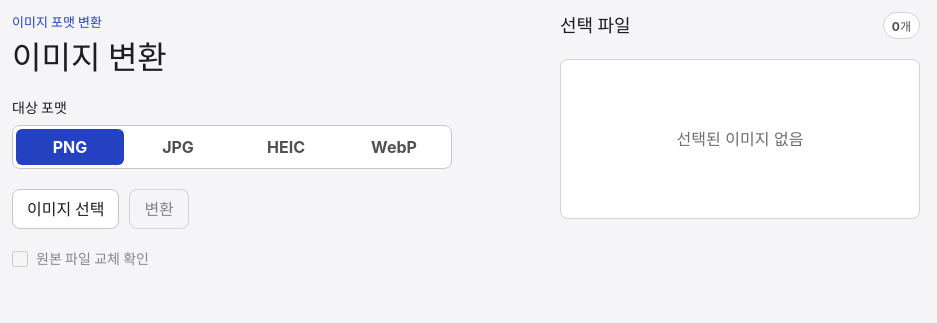
Test: ImageFormatConverterTool › requires replacement confirmation before converting selected images
Click the button "이미지 선택".
click(66, 209)  # box 12,189 -> 119,229
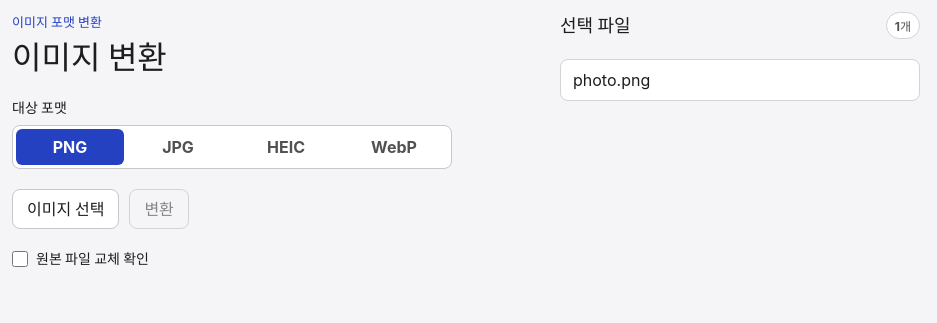
Expected: the button "변환" is disabled, 129,189 -> 189,229
Now the list item "photo.png" is shown, box 560,59 -> 920,101
Click the button "JPG".
click(178, 147)  # box 124,129 -> 232,165
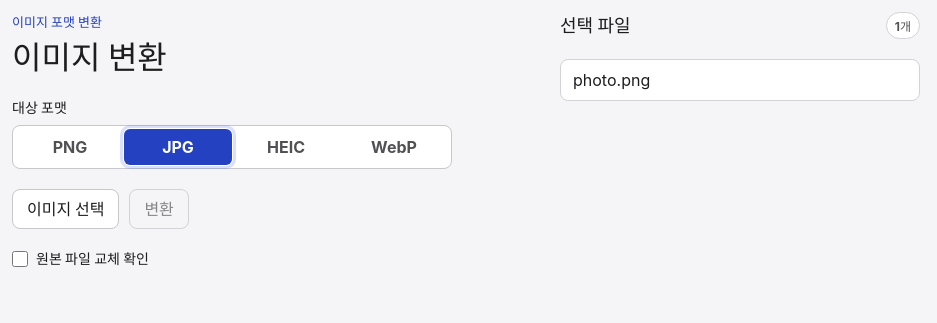
Click the checkbox labelled "원본 파일 교체 확인".
click(20, 259)  # box 12,251 -> 28,267
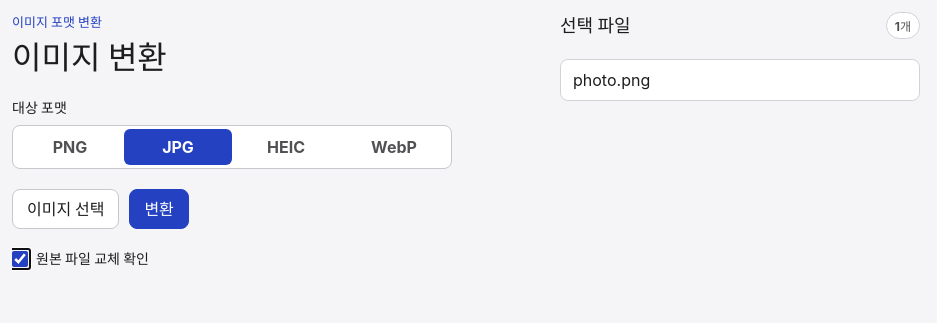
Click the button "변환".
click(159, 209)  # box 129,189 -> 189,229
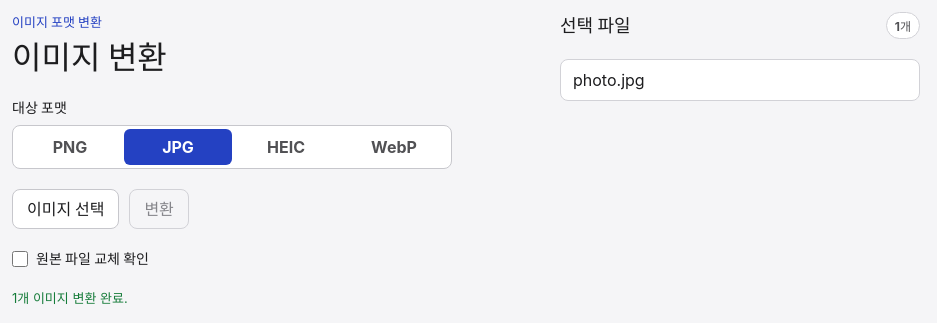
Now the message reads "1개 이미지 변환 완료.", box 12,290 -> 128,306
Now the list item "photo.jpg" is shown, box 560,59 -> 920,101
Now the button "변환" is disabled, box 129,189 -> 189,229
